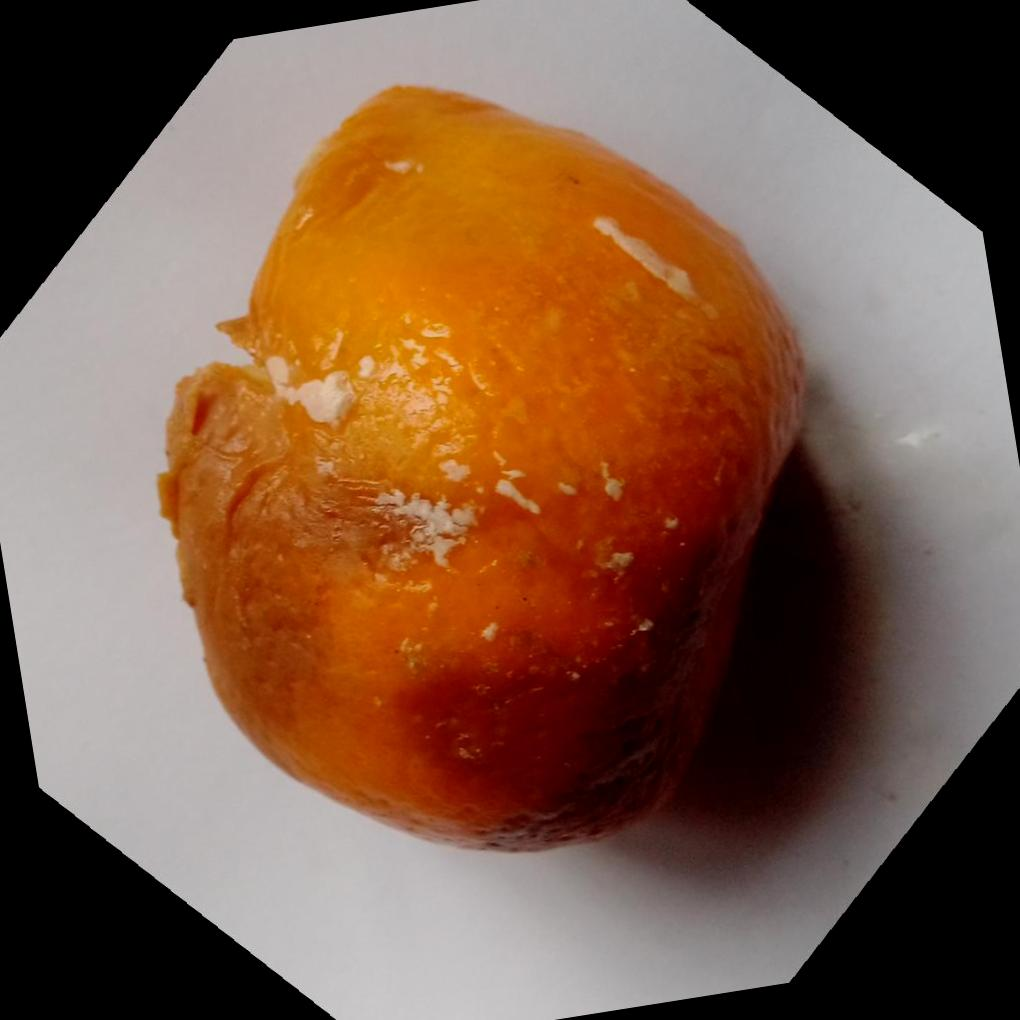FreshOrange: (152, 79, 810, 851)
